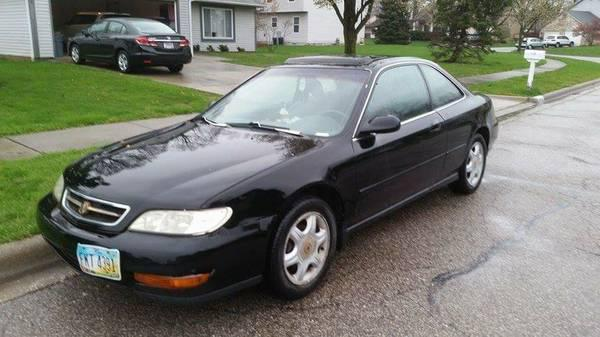acura: (18, 54, 523, 310)
